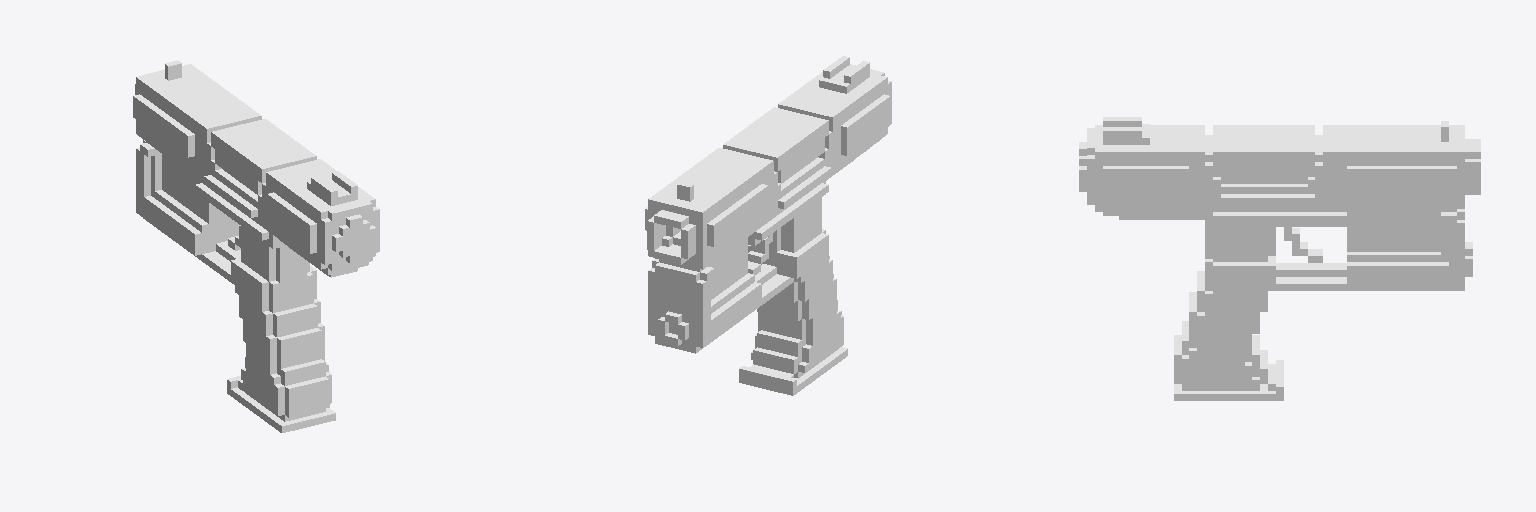
File: Sidearm.obj
The picture shows the model from 3 angles: view 1: azimuth 30°, elevation 25°; view 2: azimuth 150°, elevation 25°; view 3: azimuth 270°, elevation 25°; orthographic projection.
Visible parts, largest first — view 1: object 1; view 2: object 1; view 3: object 1.
Boxes of the visible parts, <box> form: object 1: <box>133,60,379,432</box>; object 1: <box>645,56,891,395</box>; object 1: <box>1079,117,1480,400</box>.
Size of the model in its own units: 1 by 3.7 by 5.1.